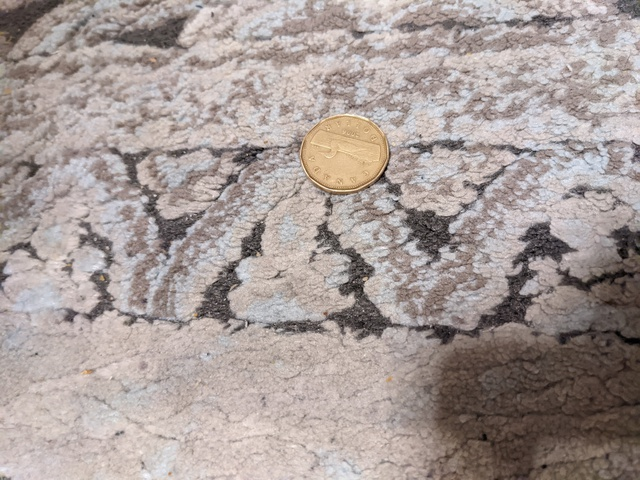loonie: (285, 106, 400, 207)
